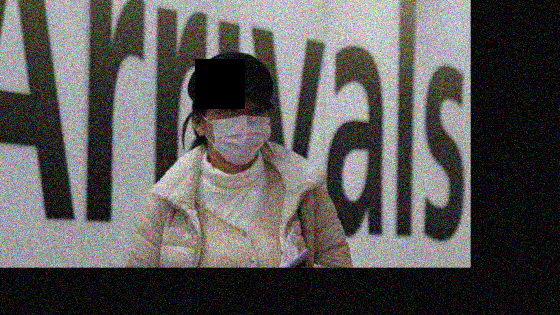with_mask: (203, 105, 271, 164)
